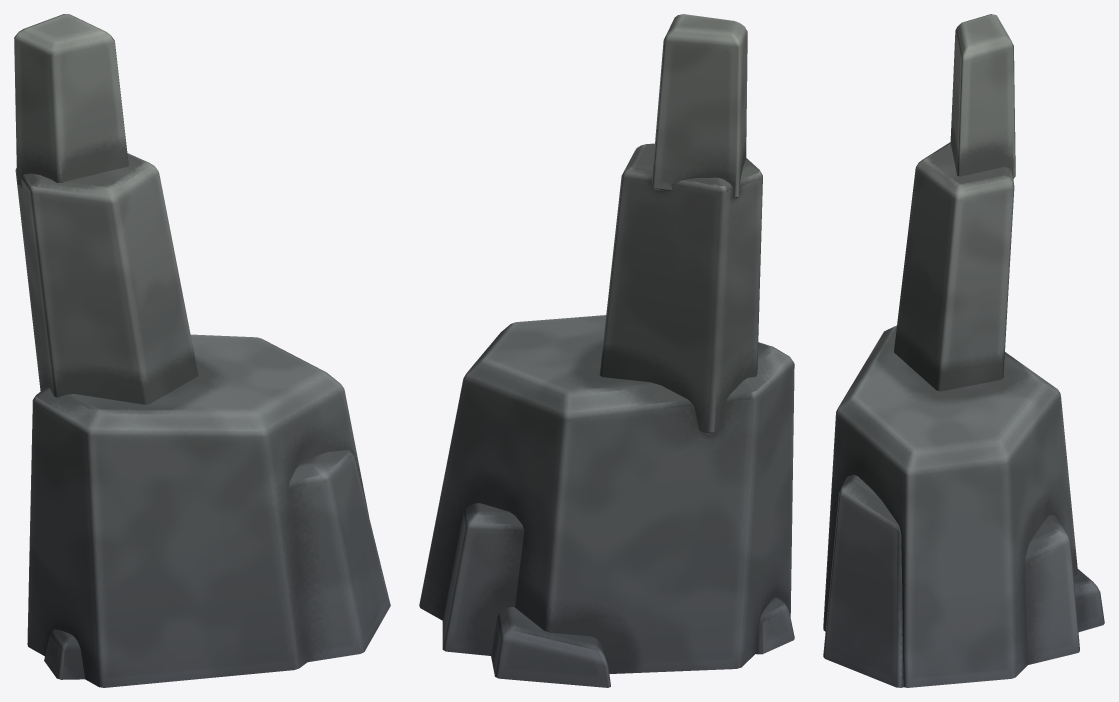
The model's file is spire_3.glb.
The picture shows the model from 3 angles, left to right: view 1: azimuth 30°, elevation 25°; view 2: azimuth 150°, elevation 25°; view 3: azimuth 270°, elevation 25°; orthographic projection. The views are drawn at different scales.
Parts seen in each view (by area): view 1: spire_3; view 2: spire_3; view 3: spire_3.
Boxes of the visible parts, <box> form: spire_3: <box>14,14,390,687</box>; spire_3: <box>419,14,794,687</box>; spire_3: <box>823,14,1104,687</box>.
Bounding box in the file's own units: 2 × 3.6 × 1.7.
Materials: 1 (1 with a texture image).
